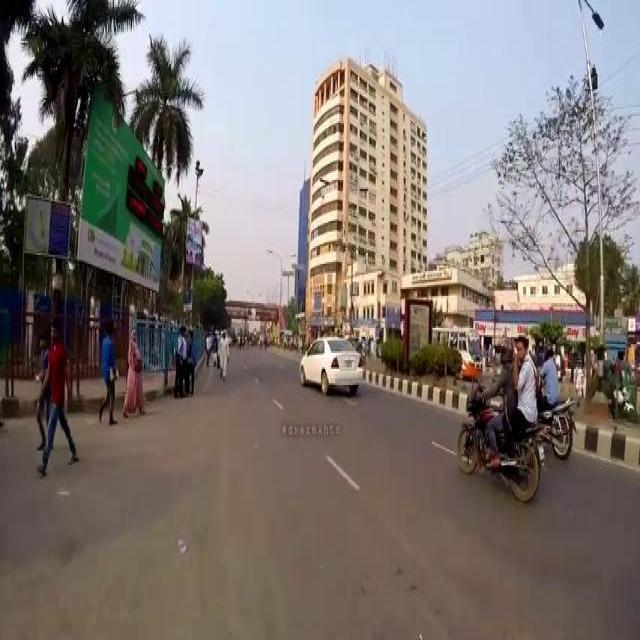bus: (431, 323, 482, 374)
car: (298, 333, 362, 392)
motorbike: (456, 382, 544, 500), (538, 394, 576, 456)
